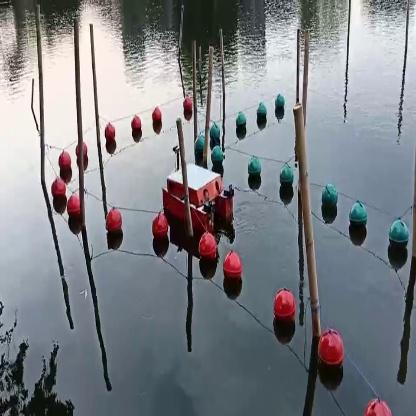green_buoy: (348, 200, 368, 236), (388, 220, 410, 251), (319, 184, 339, 216), (249, 155, 264, 184), (278, 166, 294, 191), (233, 112, 248, 136), (194, 132, 206, 160), (211, 144, 226, 166), (257, 101, 267, 126), (212, 120, 222, 141), (276, 93, 286, 113)
red_buoy: (318, 327, 344, 375), (274, 287, 297, 331), (222, 250, 242, 288), (106, 205, 124, 239), (198, 233, 216, 264), (152, 212, 168, 244), (368, 399, 392, 415), (66, 194, 78, 226), (50, 178, 64, 202), (56, 156, 72, 177), (104, 122, 116, 148), (128, 115, 140, 140), (183, 100, 193, 121), (152, 108, 160, 127)
